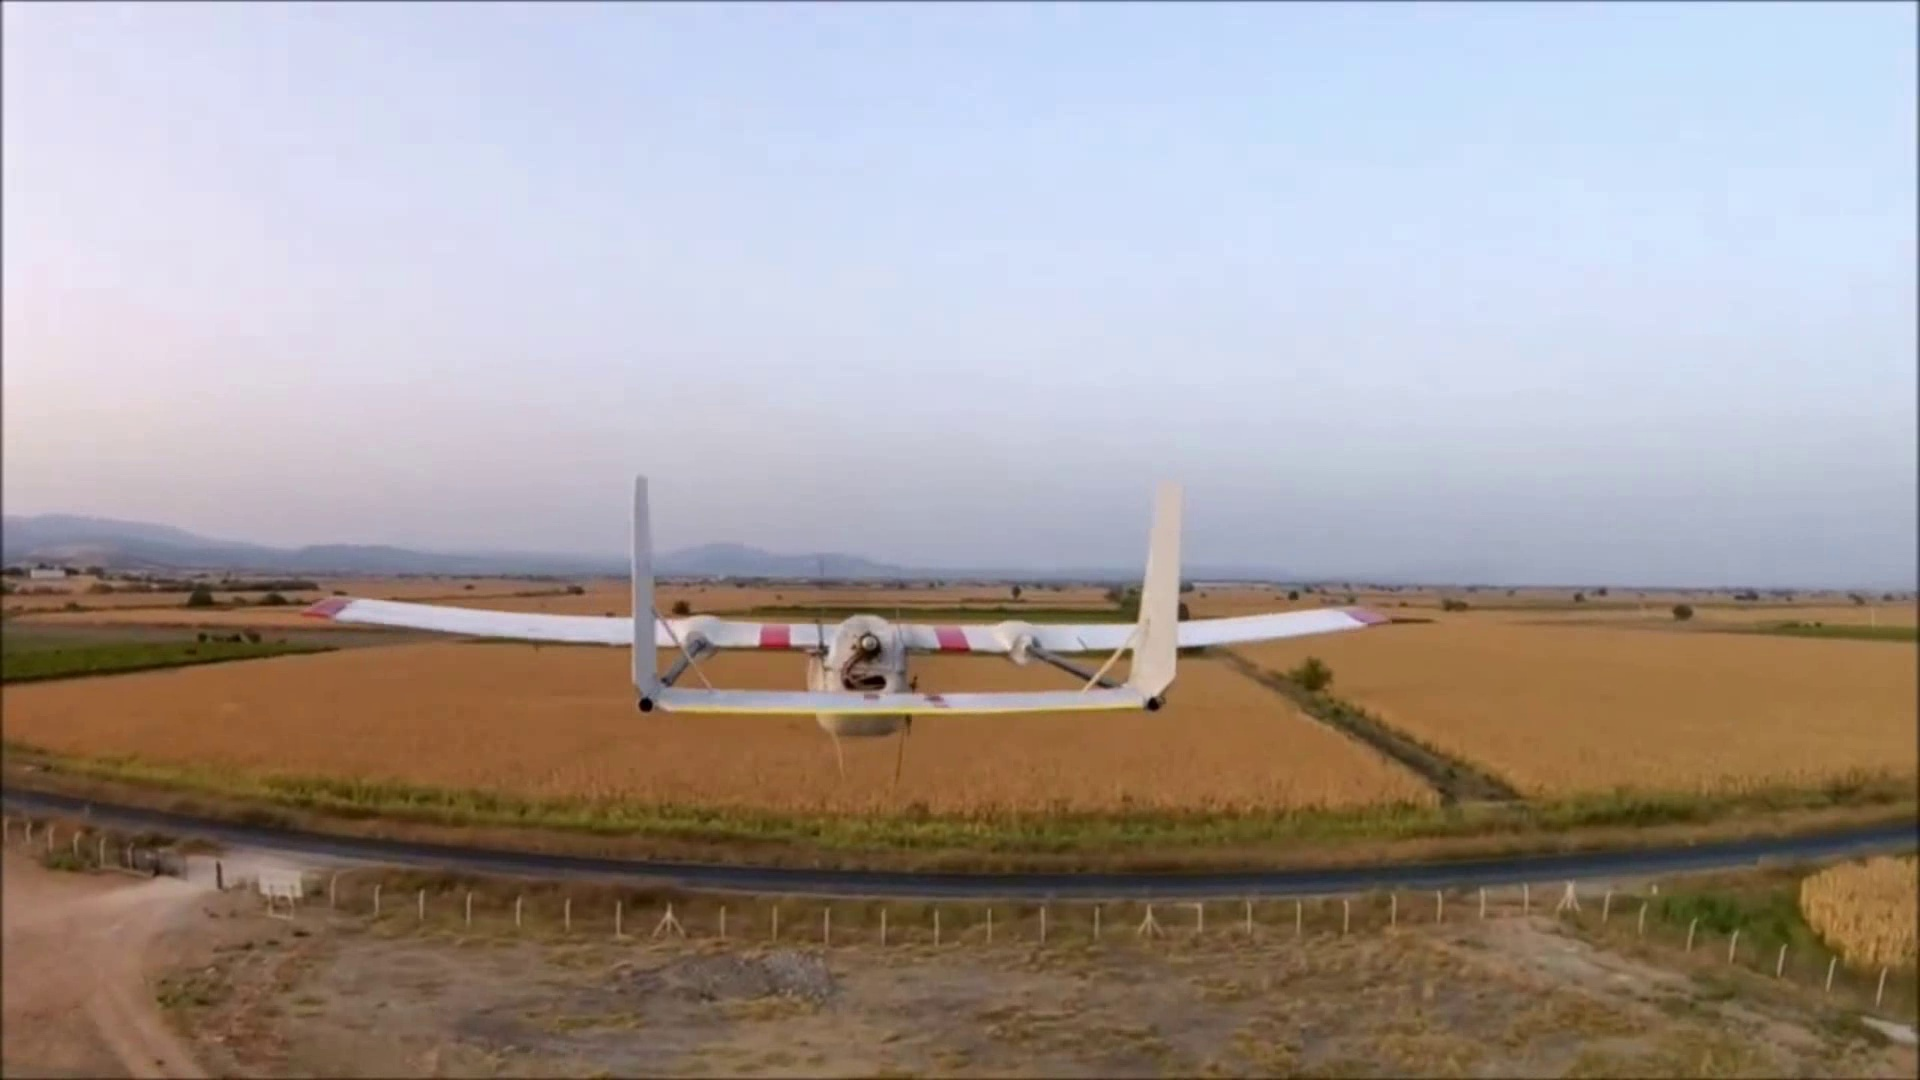airplane: (348, 473, 1379, 723)
